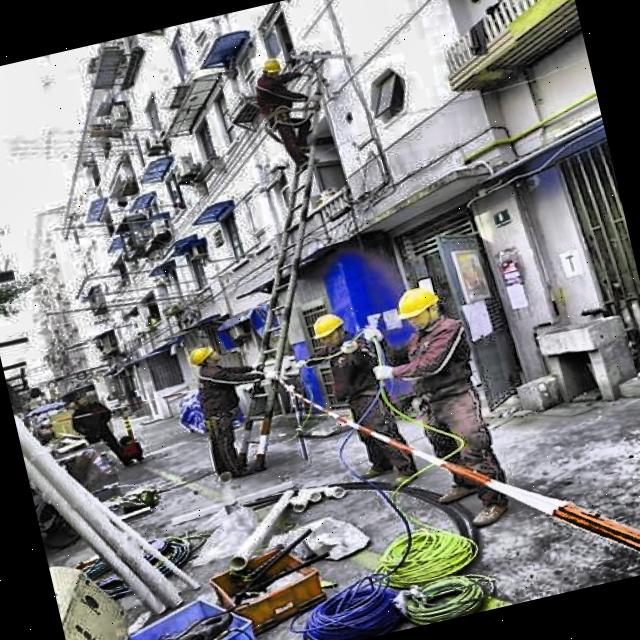helmet: (390, 278, 444, 334), (306, 308, 353, 357), (184, 340, 228, 370), (254, 52, 283, 82)
